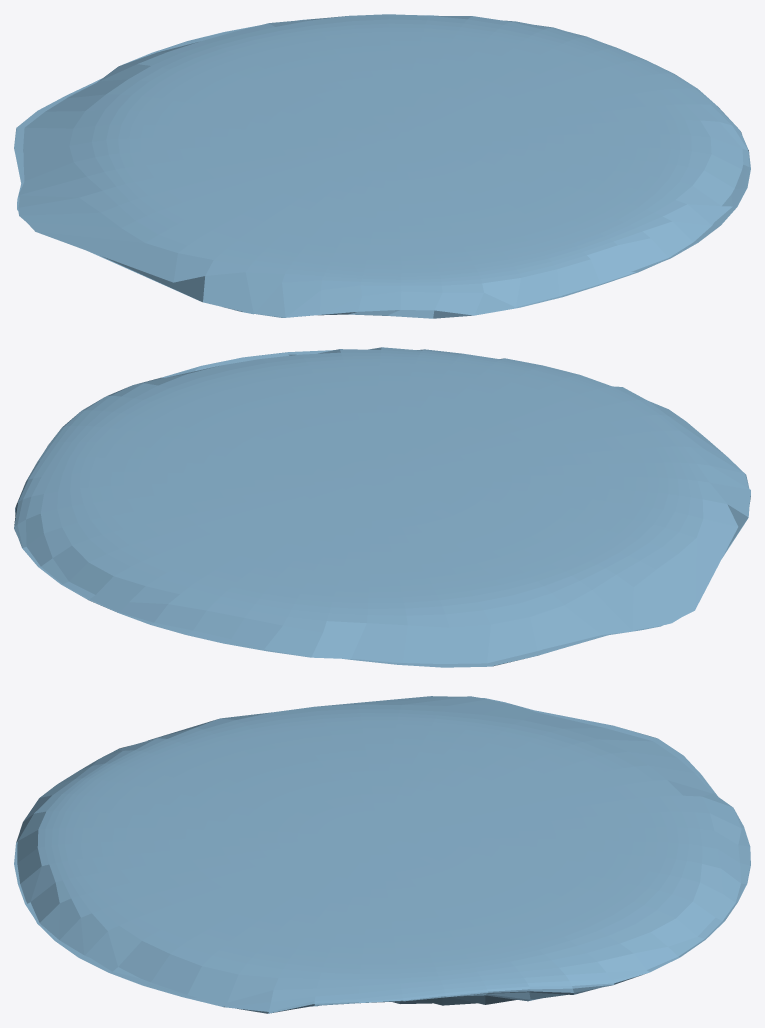
Rendered from WaterPuddle.glb.
3 renders of one model, top to bottom at view 1: azimuth 30°, elevation 25°; view 2: azimuth 150°, elevation 25°; view 3: azimuth 270°, elevation 25°, orthographic. The views are drawn at different scales.
Visible parts, largest first — view 1: Sphere; view 2: Sphere; view 3: Sphere.
Part boxes in pixels (<box>): Sphere: <box>14,14,750,318</box>; Sphere: <box>14,347,750,667</box>; Sphere: <box>14,696,750,1013</box>.
Bounding box in the file's own units: 2.31 × 0.1192 × 2.23.
1 material, 1 textured.
